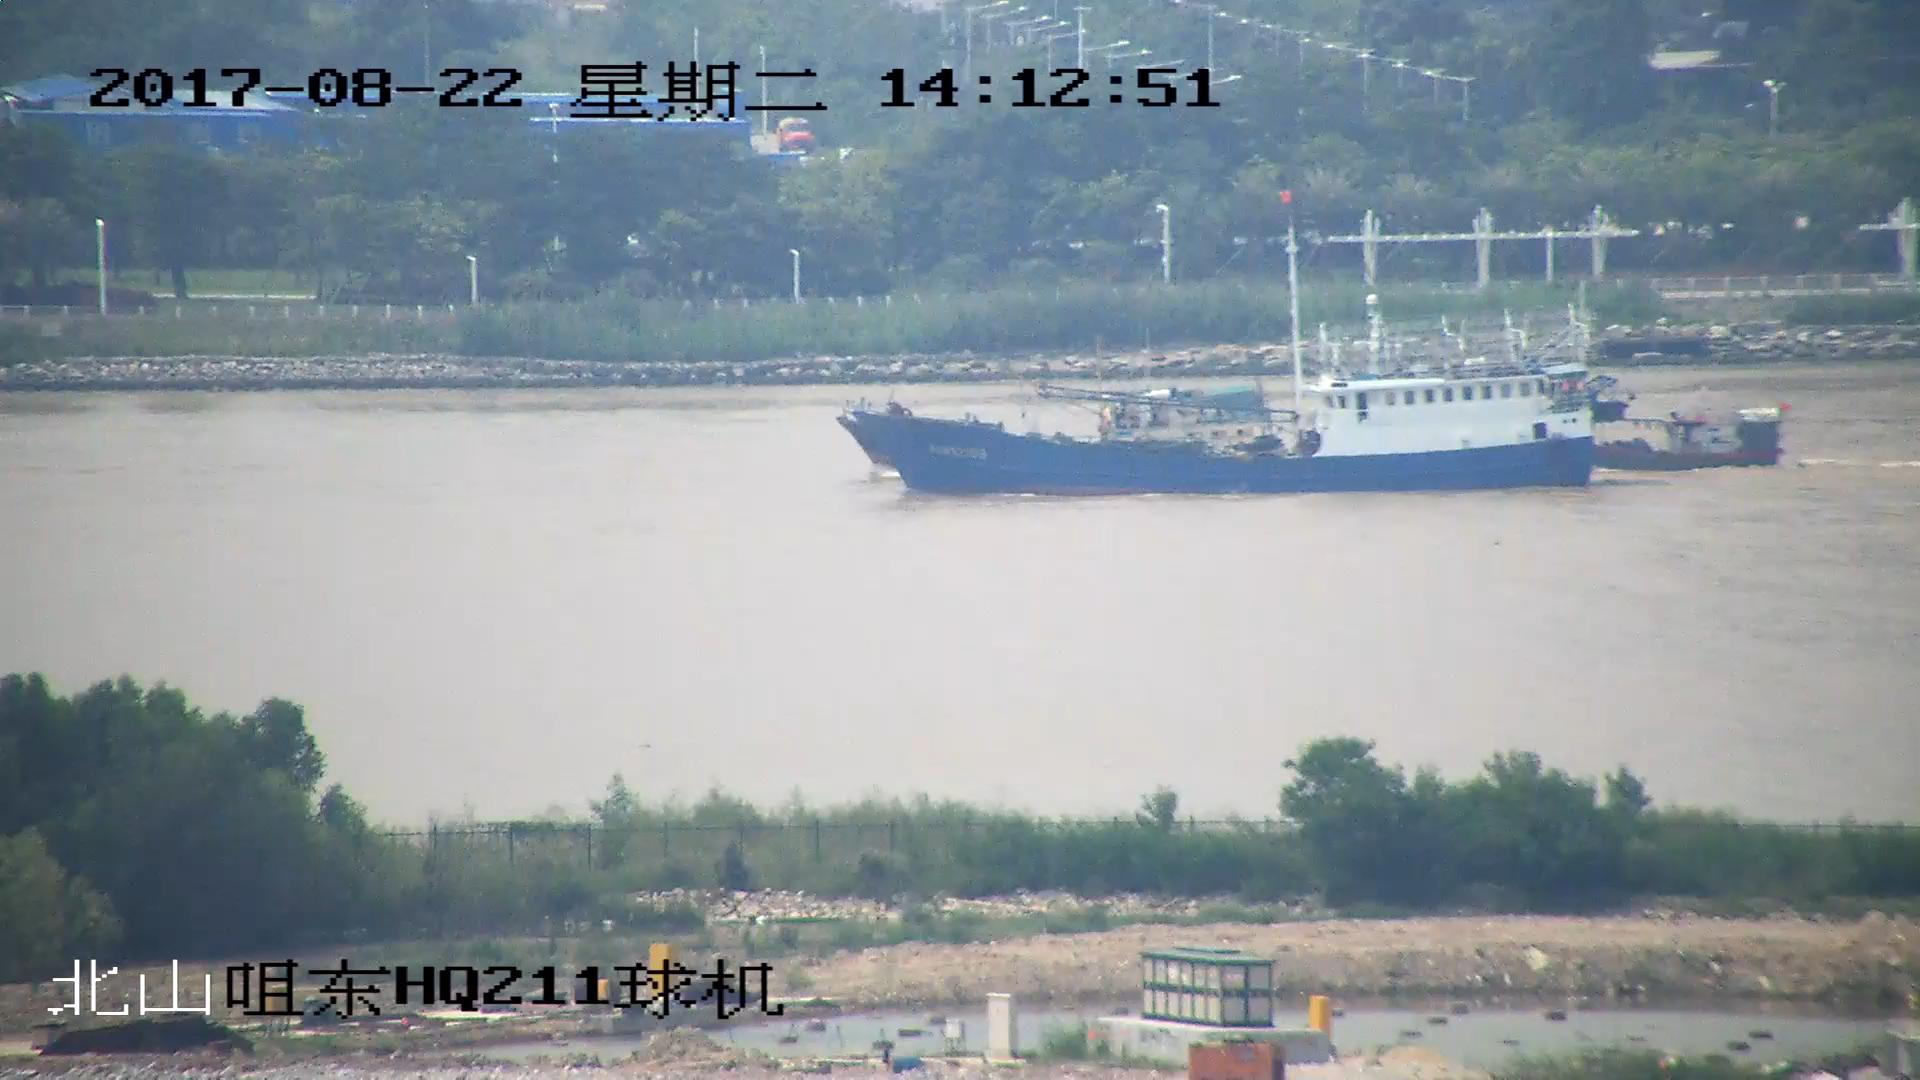fishing boat: (835, 190, 1636, 497), (1578, 397, 1785, 474)
